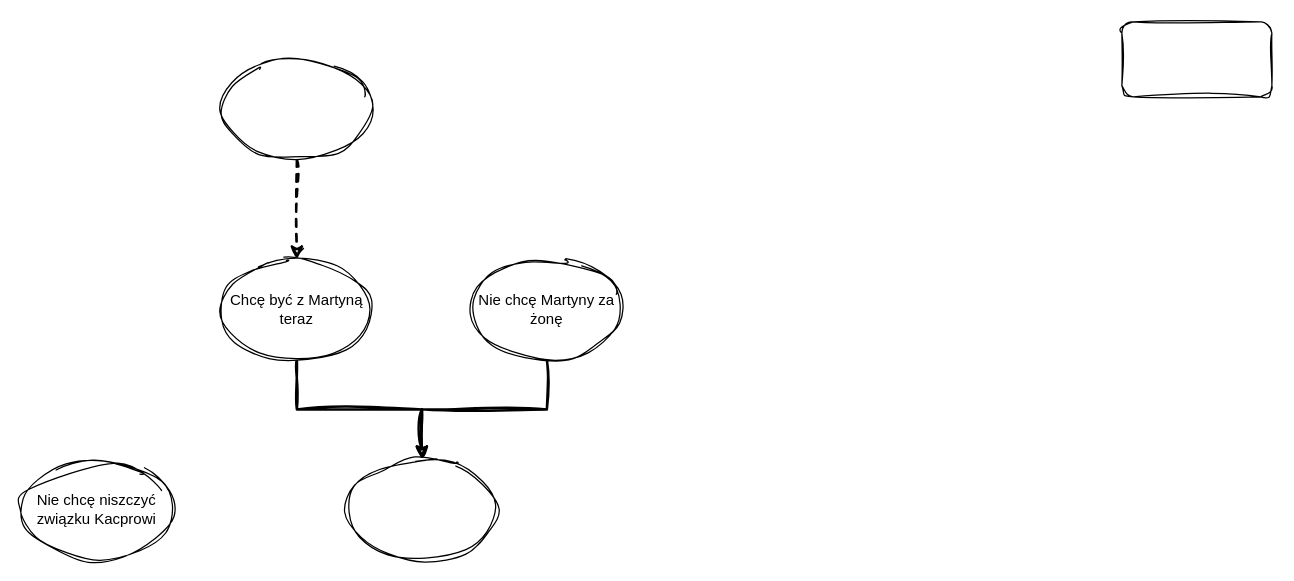
Some shapes in this 1294 by 581 pixel diagram are drawn without their labels. The shapes that lost their labels are listed below. From the top down, each one's centre as x and y in pixels, then its label:
[296,108]: Nie chcę być sam teraz
[421,508]: Kiedyś będziemy musieli się rozstać
